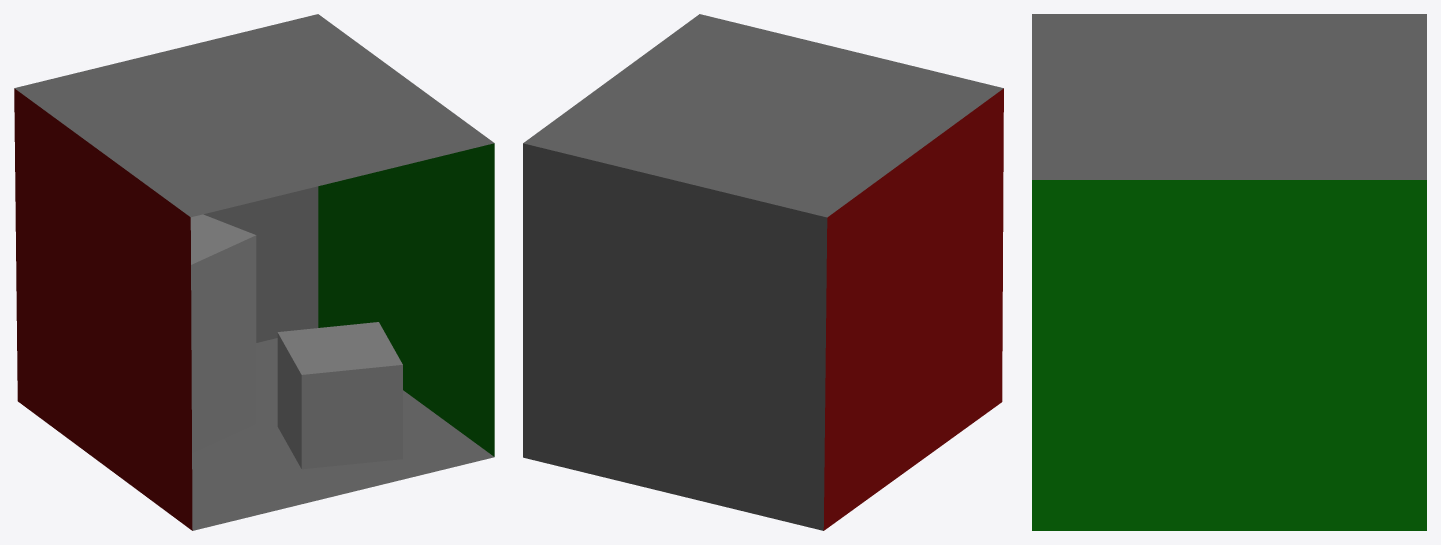
The picture shows the model from 3 angles, left to right: view 1: azimuth 30°, elevation 25°; view 2: azimuth 150°, elevation 25°; view 3: azimuth 270°, elevation 25°; orthographic projection. The views are drawn at different scales.
Visible parts, largest first — view 1: cornell_box, small_box, large_box; view 2: cornell_box; view 3: cornell_box.
Part boxes in pixels (<box>): cornell_box: <box>14,14,494,530</box>; small_box: <box>277,322,402,469</box>; large_box: <box>190,214,256,453</box>; cornell_box: <box>523,14,1003,530</box>; cornell_box: <box>1032,14,1426,530</box>.
Bounding box in the file's own units: 556 × 549 × 559.
